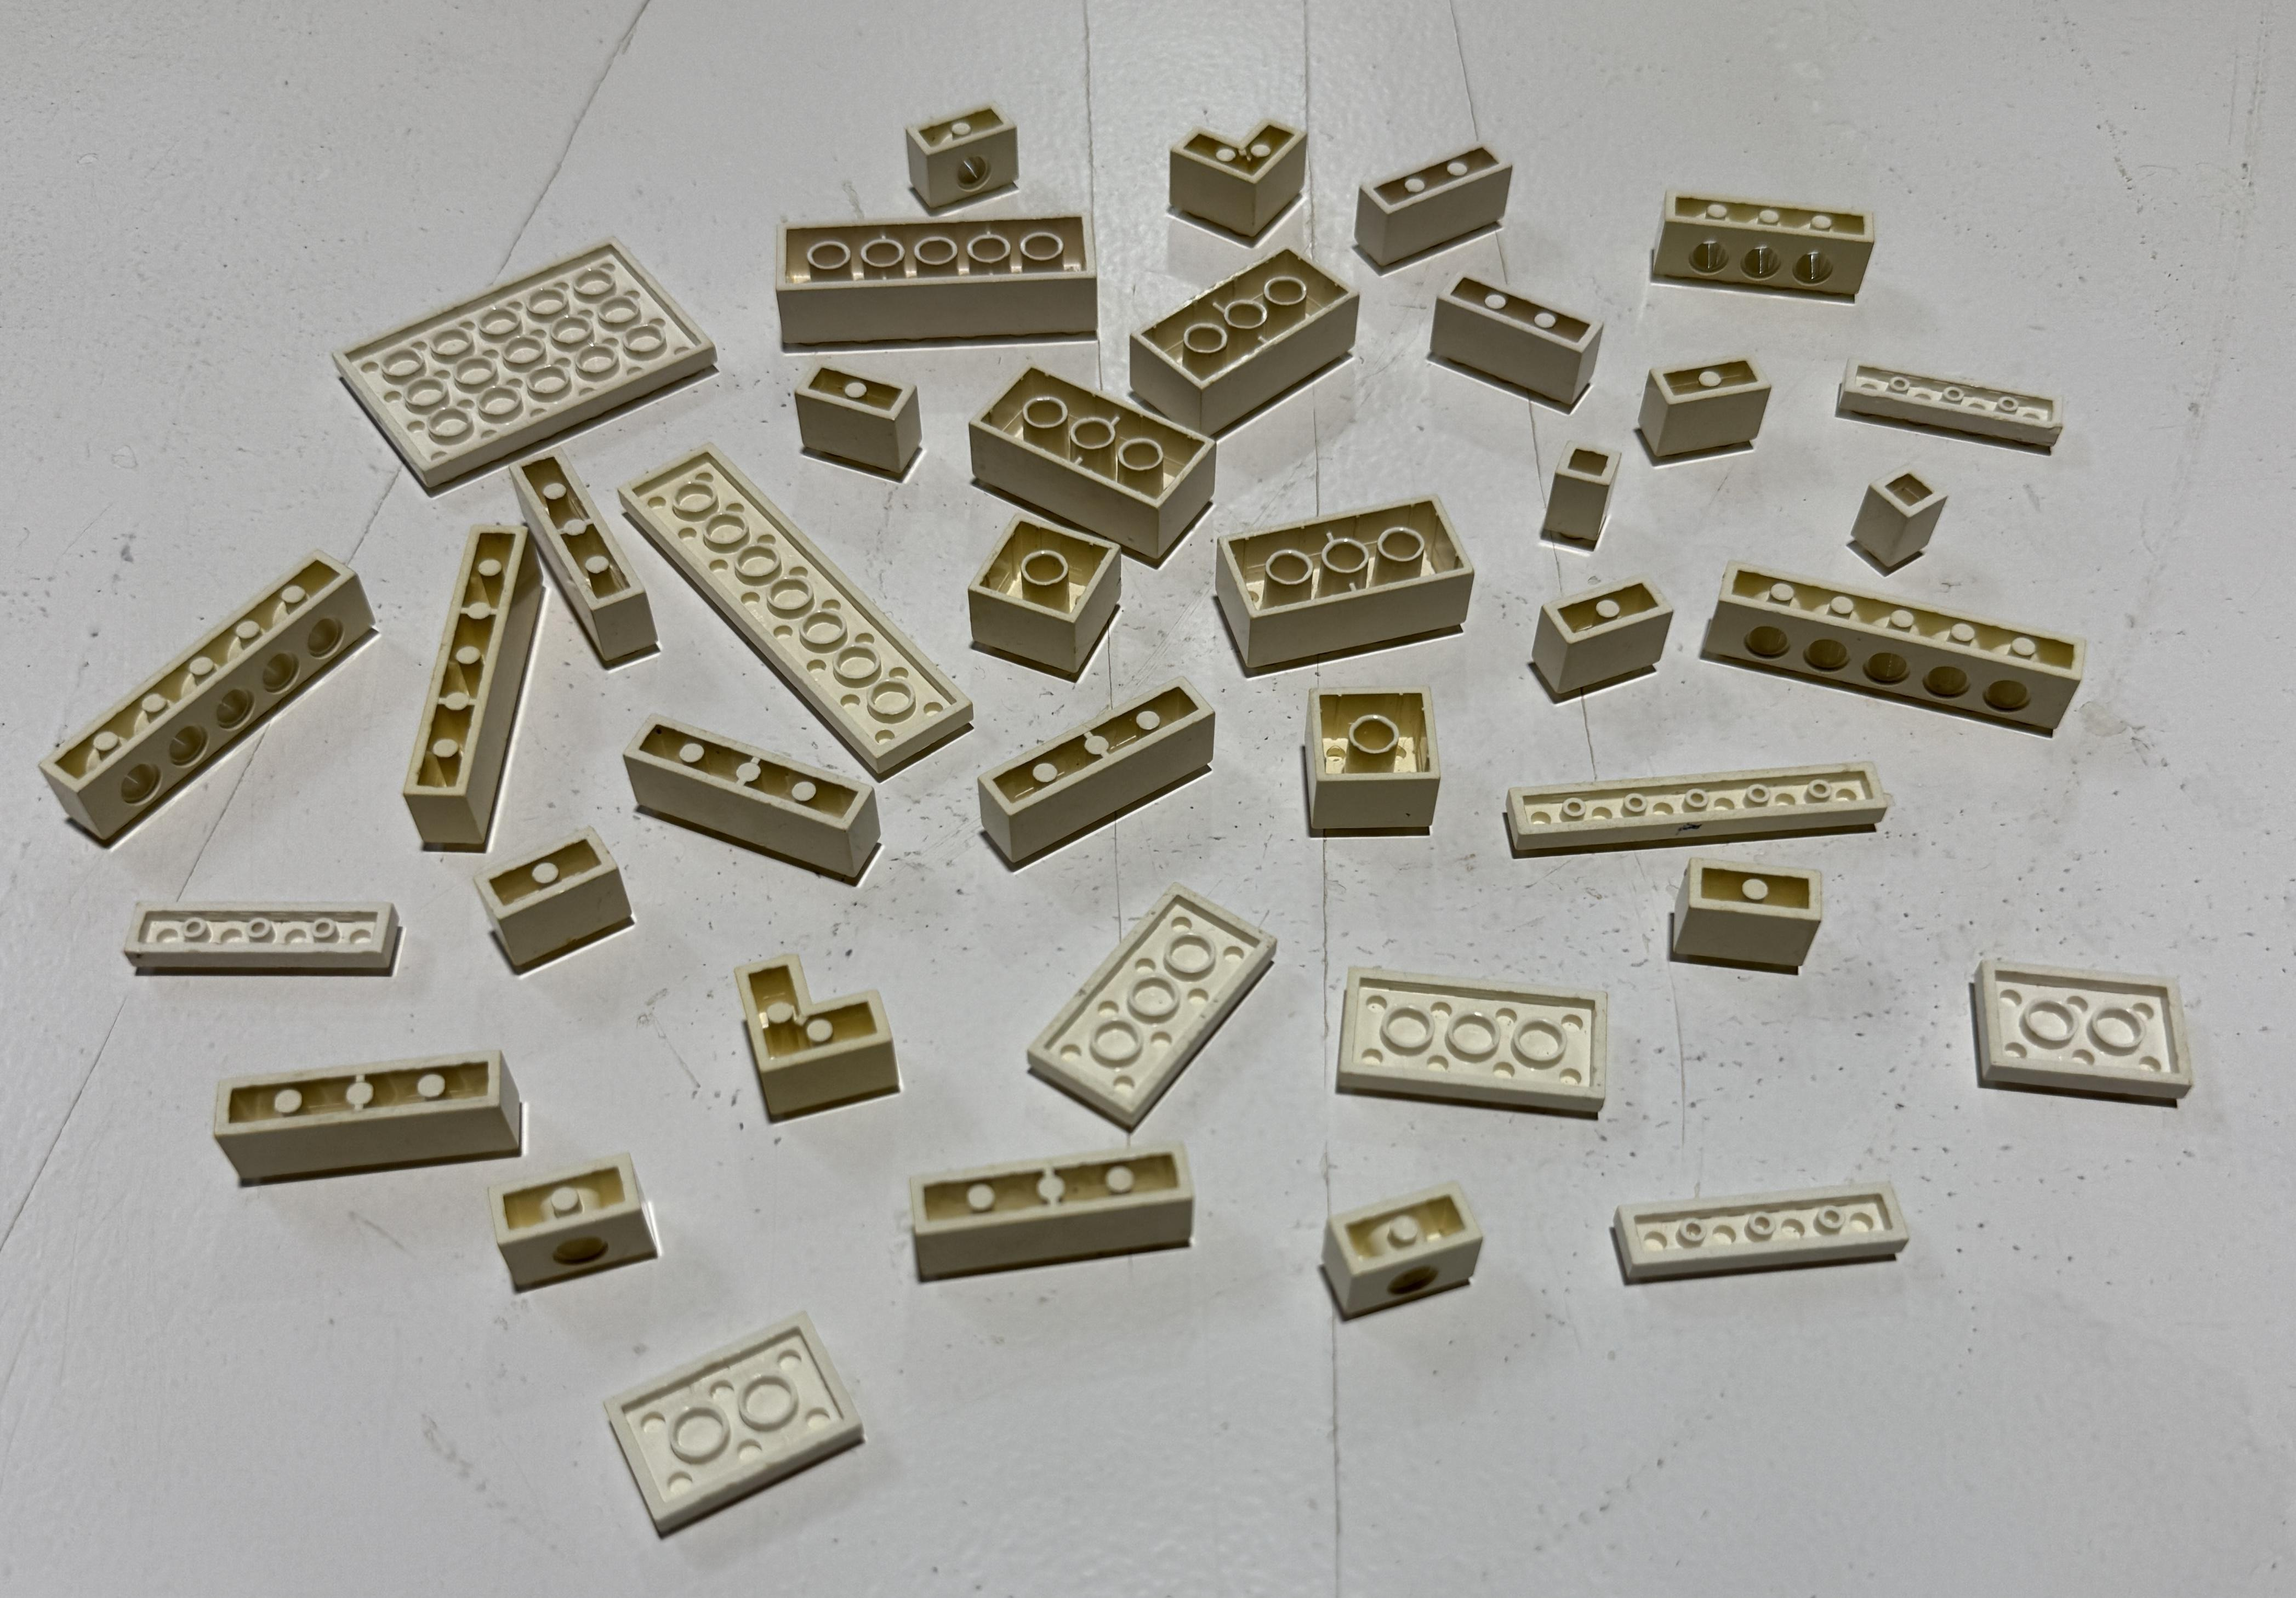brick_1x1: (1825, 431, 1958, 593), (1518, 422, 1647, 567)
brick_1x2: (469, 1139, 707, 1305), (455, 802, 651, 994), (1643, 832, 1858, 1000), (1302, 1160, 1502, 1336), (1513, 560, 1692, 714), (768, 338, 953, 487), (1623, 333, 1785, 485), (883, 80, 1042, 232)
brick_1x3: (1406, 253, 1626, 426), (1345, 108, 1520, 288)
brick_1x4: (961, 661, 1251, 897), (899, 1094, 1216, 1305), (604, 691, 916, 900), (197, 1029, 572, 1198), (1633, 174, 1909, 307)
brick_2x2: (942, 506, 1172, 708), (1282, 679, 1460, 841)
brick_2x4: (1185, 478, 1495, 689), (954, 344, 1228, 583), (1101, 237, 1380, 452)
